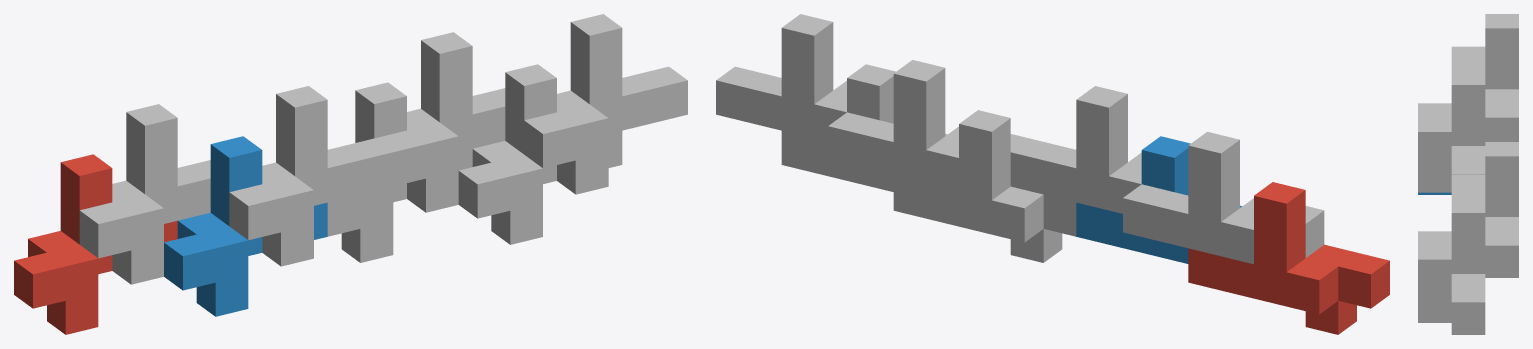
The model's file is tiling.obj.
3 views of the same model, side by side, from view 1: azimuth 30°, elevation 25°; view 2: azimuth 150°, elevation 25°; view 3: azimuth 270°, elevation 25° (orthographic). The views are drawn at different scales.
Parts seen in each view (by area): view 1: copy_1_domain_8, copy_1_domain_4, copy_1_domain_3, copy_1_domain_7, copy_1_domain_2, copy_1_domain_6, copy_1_domain_1, copy_1_domain_5; view 2: copy_1_domain_1, copy_1_domain_5, copy_1_domain_3, copy_1_domain_7, copy_1_domain_8, copy_1_domain_4, copy_1_domain_2, copy_1_domain_6; view 3: copy_1_domain_8, copy_1_domain_4, copy_1_domain_7, copy_1_domain_3, copy_1_domain_6, copy_1_domain_2.
Boxes of the visible parts, x1,y1,x2,y2 form: copy_1_domain_8: (524, 14, 687, 194); copy_1_domain_4: (229, 86, 393, 266); copy_1_domain_3: (79, 104, 210, 284); copy_1_domain_7: (374, 32, 505, 212); copy_1_domain_2: (164, 136, 327, 316); copy_1_domain_6: (458, 64, 622, 244); copy_1_domain_1: (14, 154, 177, 334); copy_1_domain_5: (327, 82, 472, 262); copy_1_domain_1: (1188, 182, 1389, 334); copy_1_domain_5: (893, 110, 1076, 262); copy_1_domain_3: (1123, 131, 1324, 264); copy_1_domain_7: (828, 60, 1029, 192); copy_1_domain_8: (716, 14, 846, 141); copy_1_domain_4: (1010, 86, 1141, 213); copy_1_domain_2: (1076, 136, 1242, 263); copy_1_domain_6: (781, 64, 947, 191); copy_1_domain_8: (1418, 198, 1485, 332); copy_1_domain_4: (1418, 71, 1485, 192); copy_1_domain_7: (1451, 142, 1518, 275); copy_1_domain_3: (1451, 14, 1518, 141); copy_1_domain_6: (1418, 320, 1485, 334); copy_1_domain_2: (1418, 192, 1451, 194).
Size of the model in its own units: 20 by 5 by 3.
